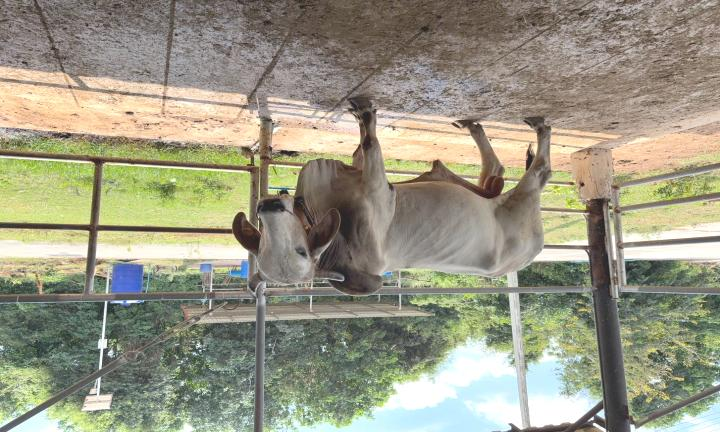Brahman: (232, 99, 551, 296)
